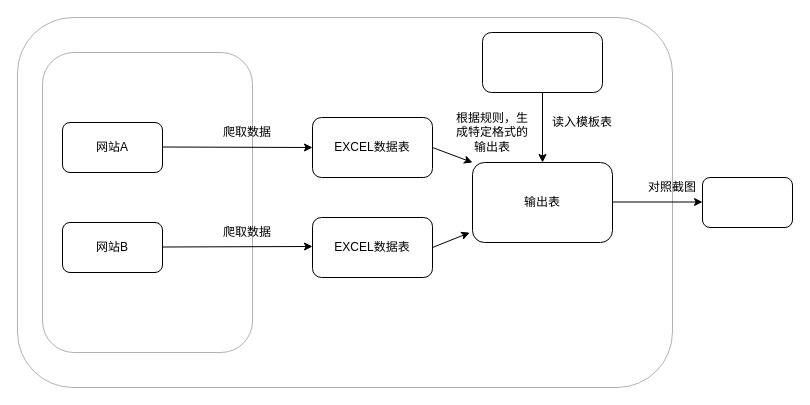
The diagram is 810 pixels wide and 405 high, and some of its shapes have lost their labels. The shapes that lost their labels are listed below. From the top down, each one's centre as x and y in pixels, then its label:
At point 542,62: "模板表".
At point 747,202: "业务复核".
